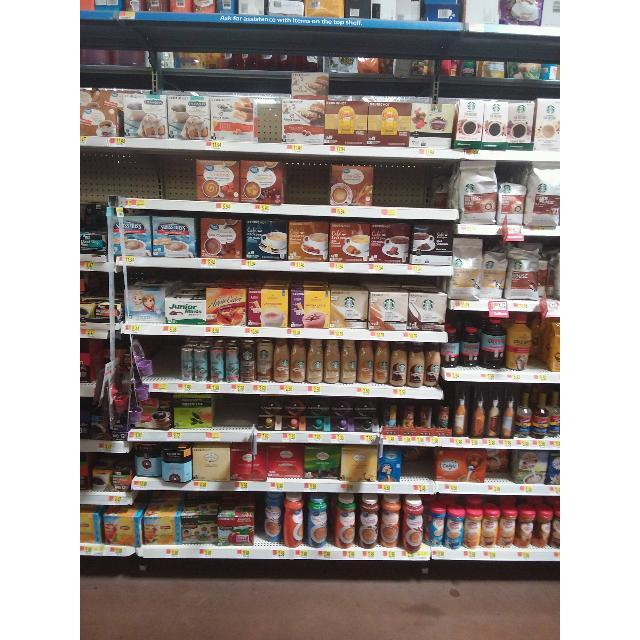empty: (80, 149, 196, 199), (374, 157, 446, 207), (288, 155, 328, 205), (220, 393, 254, 432), (154, 334, 180, 382)
front: (402, 462, 432, 484), (486, 474, 508, 484), (254, 543, 282, 549)
